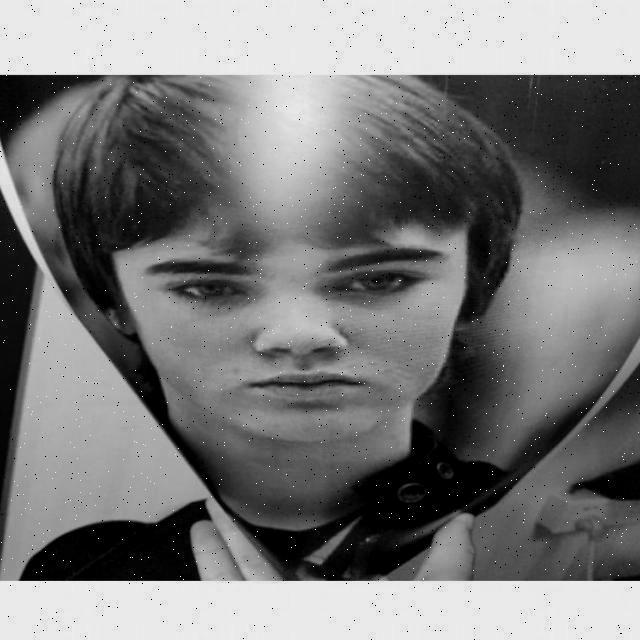fake: (0, 73, 640, 578)
